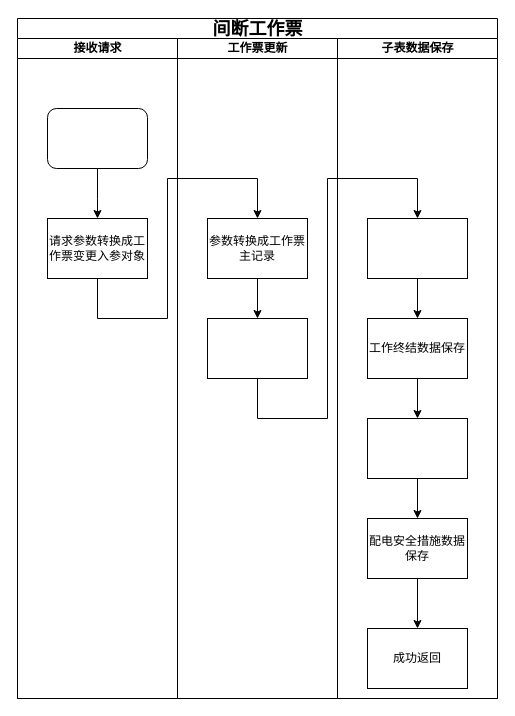
The diagram is 515 pixels wide and 716 high, and some of its shapes have lost their labels. Each missing label, with the centre of its shape:
"安全措施记录保存" belongs at (417,248).
"工作许可数据保存" belongs at (417,448).
"开始" belongs at (97,138).
"更新工作票主记录" belongs at (257,348).
